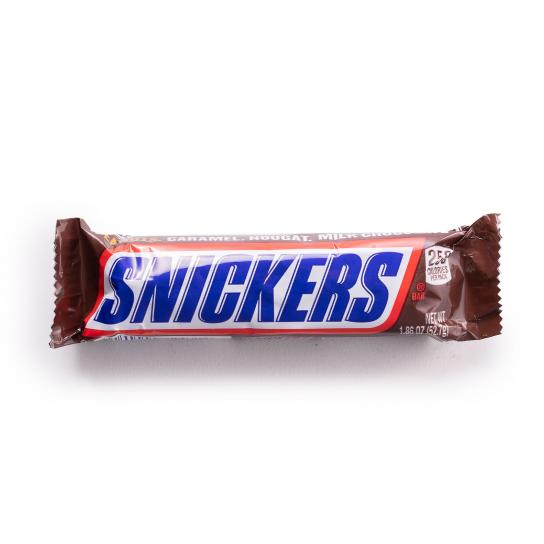snickers: (42, 205, 515, 360)
